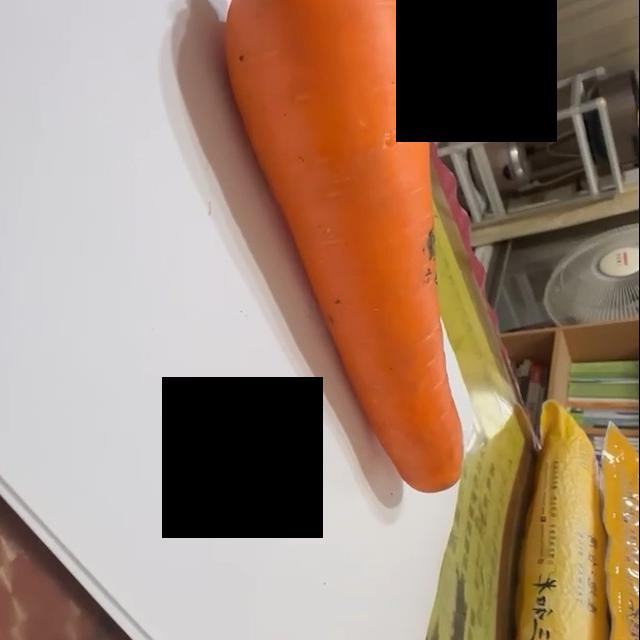carrot: (222, 1, 468, 496)
